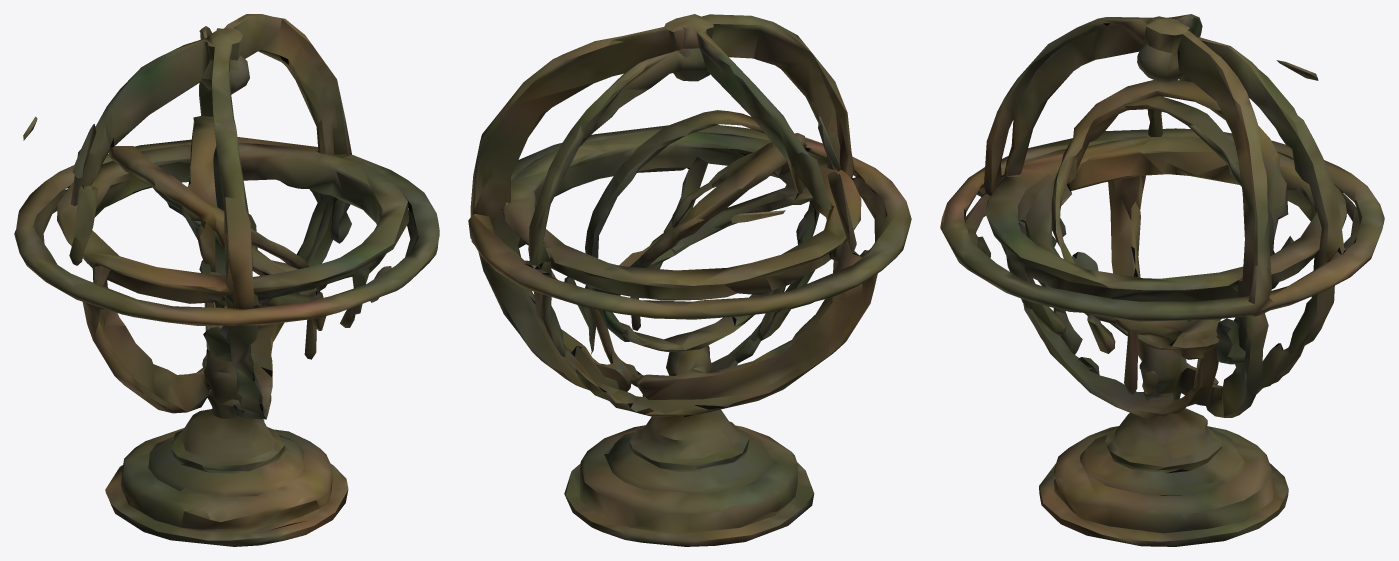
The model's file is armillary-sphere-v001.glb.
The picture shows the model from 3 angles, left to right: view 1: azimuth 30°, elevation 25°; view 2: azimuth 150°, elevation 25°; view 3: azimuth 270°, elevation 25°; orthographic projection. The views are drawn at different scales.
Visible parts, largest first — view 1: armillary-sphere; view 2: armillary-sphere; view 3: armillary-sphere.
Boxes of the visible parts, box(x1,y1,x2,y2) form: armillary-sphere: box(14, 14, 439, 546); armillary-sphere: box(468, 14, 911, 546); armillary-sphere: box(940, 14, 1384, 546).
Size of the model in its own units: 1.01 by 1.2 by 1.02.
1 material, 1 textured.
